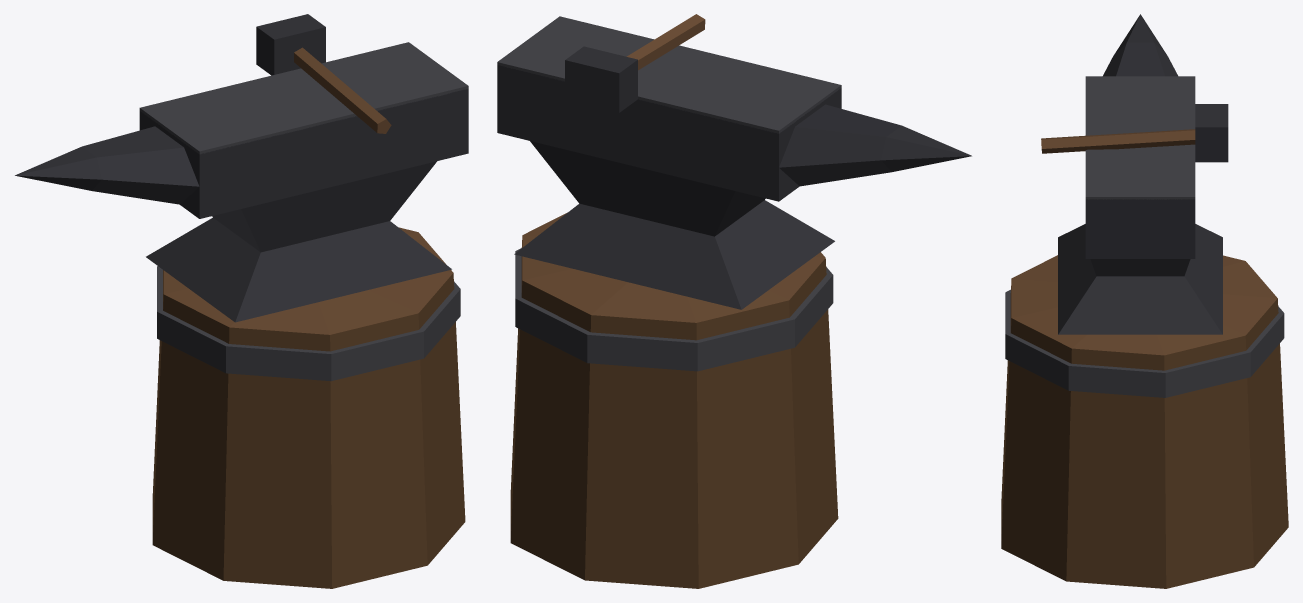
Rendered from Anvil.fbx.
The picture shows the model from 3 angles, left to right: view 1: azimuth 30°, elevation 25°; view 2: azimuth 150°, elevation 25°; view 3: azimuth 270°, elevation 25°; orthographic projection. The views are drawn at different scales.
Visible parts, largest first — view 1: Anvil; view 2: Anvil; view 3: Anvil.
Boxes of the visible parts, x1=… form: Anvil: x1=15, y1=14, x2=468, y2=588; Anvil: x1=497, y1=14, x2=971, y2=588; Anvil: x1=1001, y1=14, x2=1288, y2=588.
Bounding box in the file's own units: 0.8259 × 0.85 × 0.5237.
